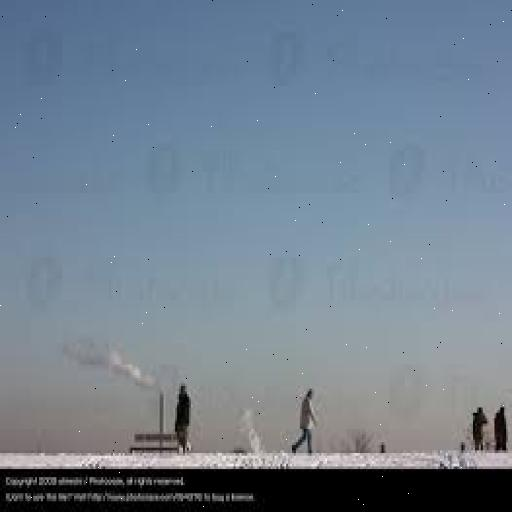smoke: (58, 324, 156, 397)
